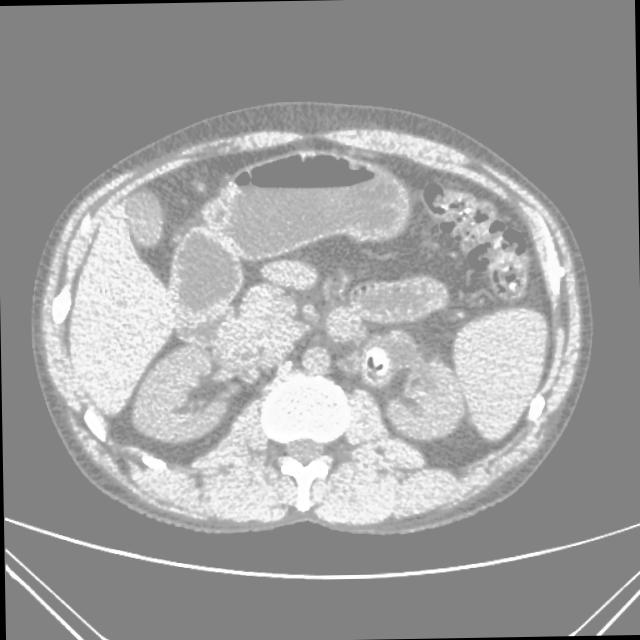STONE: (155, 150, 565, 400)
